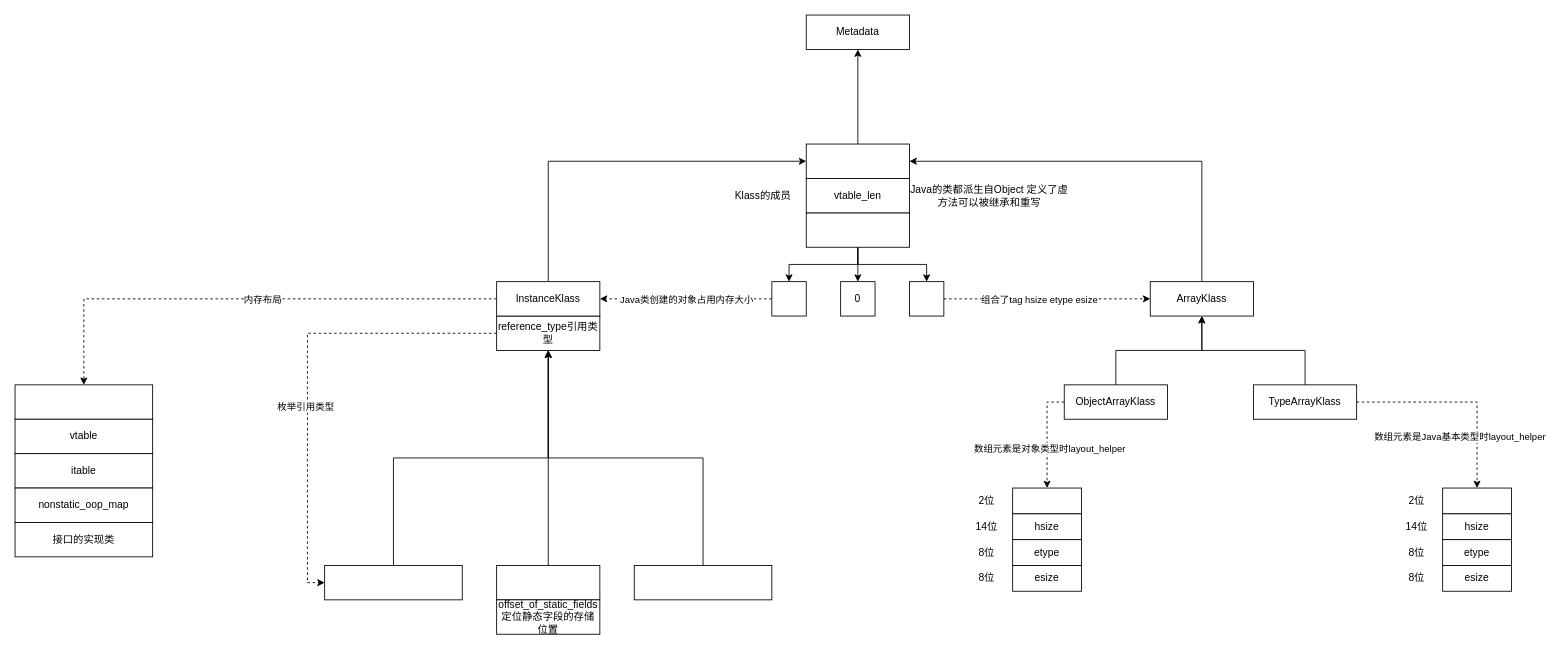
Image size: 1560x650. Some labels were removed from this diagram. The shapes that lost their labels are listed below. From the top down, each one's centre as x and y in pixels, then its label:
(857,160): Klass
(857,229): layout_helper
(788,298): 正数
(926,298): 负数
(83,401): InstanceKlass本真占用内存
(1046,500): tag=10
(1476,500): tag=11
(393,582): InstanceRefKlass
(548,582): InstanceMirrorKlass
(702,582): InstancKlassLoadereKlass
